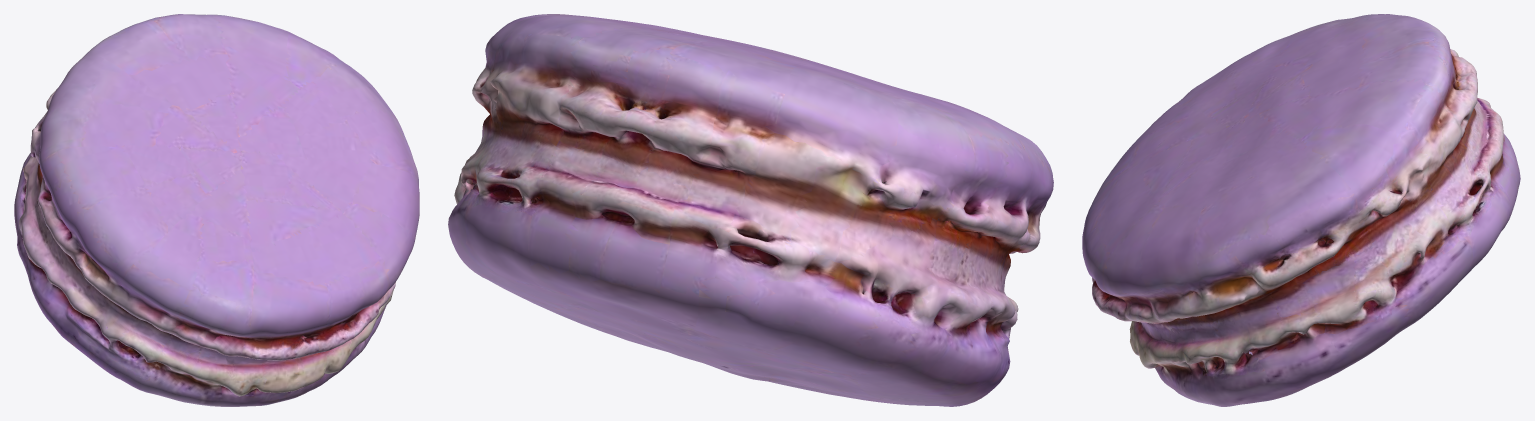
The picture shows the model from 3 angles, left to right: view 1: azimuth 30°, elevation 25°; view 2: azimuth 150°, elevation 25°; view 3: azimuth 270°, elevation 25°; orthographic projection. The views are drawn at different scales.
Size of the model in its own units: 1.89 by 1.58 by 1.91.
1 material, 1 textured.
